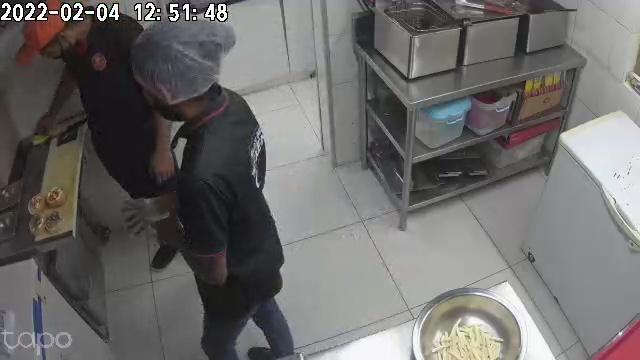no_gloves: (149, 134, 173, 186)
